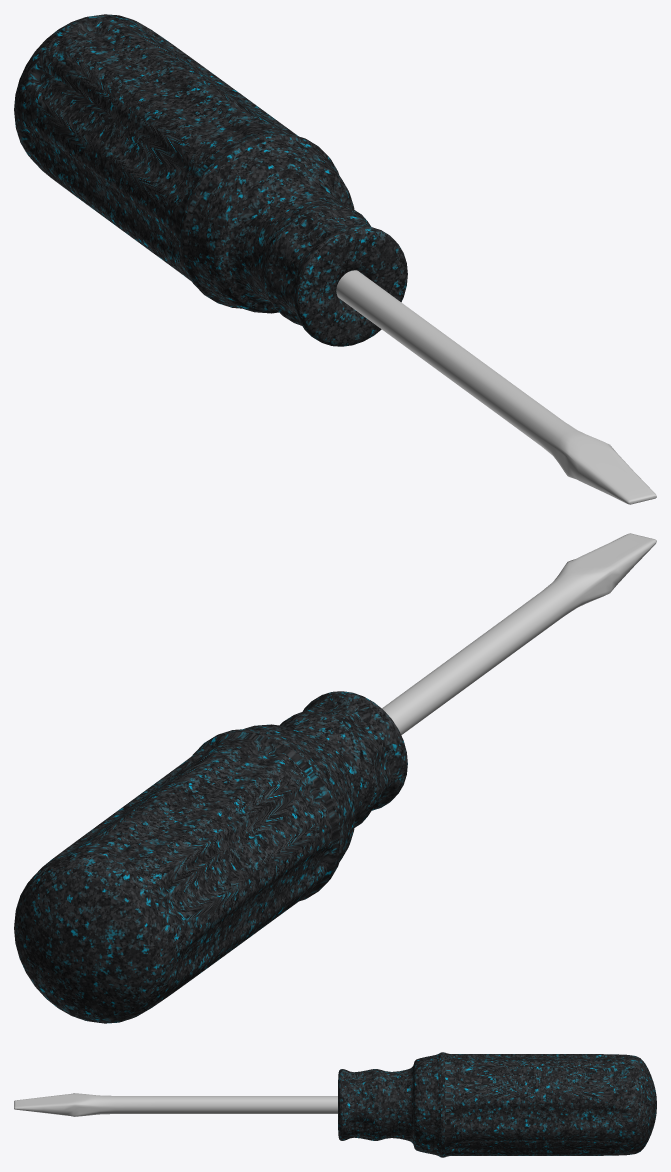
The model's file is Screw_Driver.fbx.
3 renders of one model, top to bottom at view 1: azimuth 30°, elevation 25°; view 2: azimuth 150°, elevation 25°; view 3: azimuth 270°, elevation 25°, orthographic. The views are drawn at different scales.
Visible parts, largest first — view 1: Screw Driver; view 2: Screw Driver; view 3: Screw Driver.
Boxes of the visible parts, x1,y1,x2,y2 form: Screw Driver: [14, 14, 656, 504]; Screw Driver: [14, 533, 656, 1023]; Screw Driver: [14, 1052, 656, 1157].
Size of the model in its own units: 5.42 by 33.03 by 5.42.
